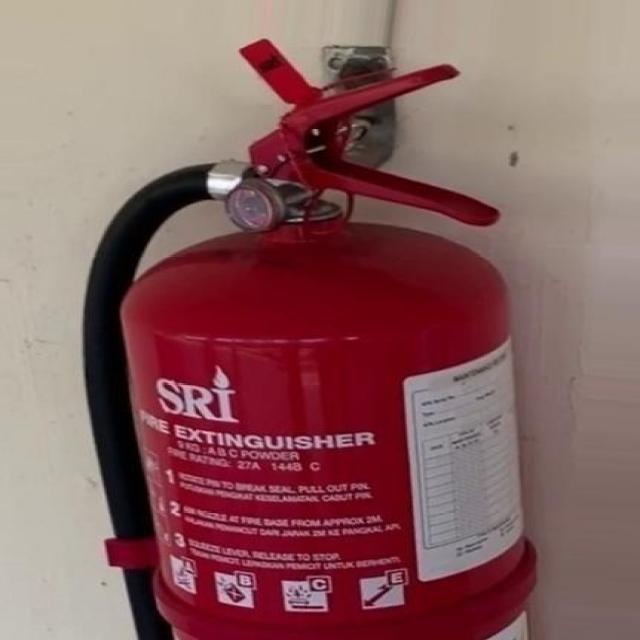fire_extinguisher: (63, 32, 549, 639)
